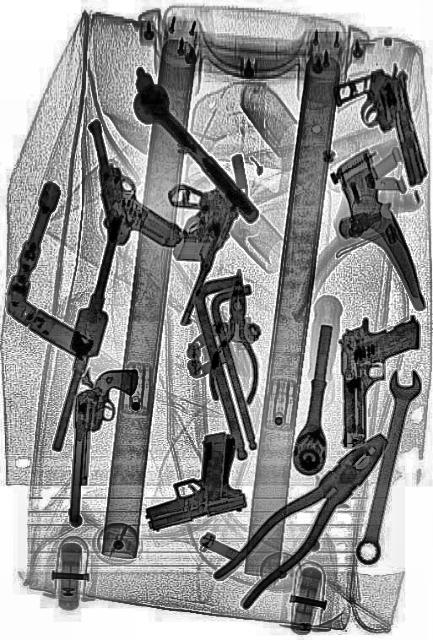Gun: (82, 95, 184, 268), (152, 160, 246, 332), (332, 54, 432, 208), (66, 362, 138, 532), (136, 428, 246, 530), (338, 314, 420, 446)
Pliers: (210, 414, 398, 622), (207, 268, 262, 406)
Wrench: (349, 361, 423, 571)
